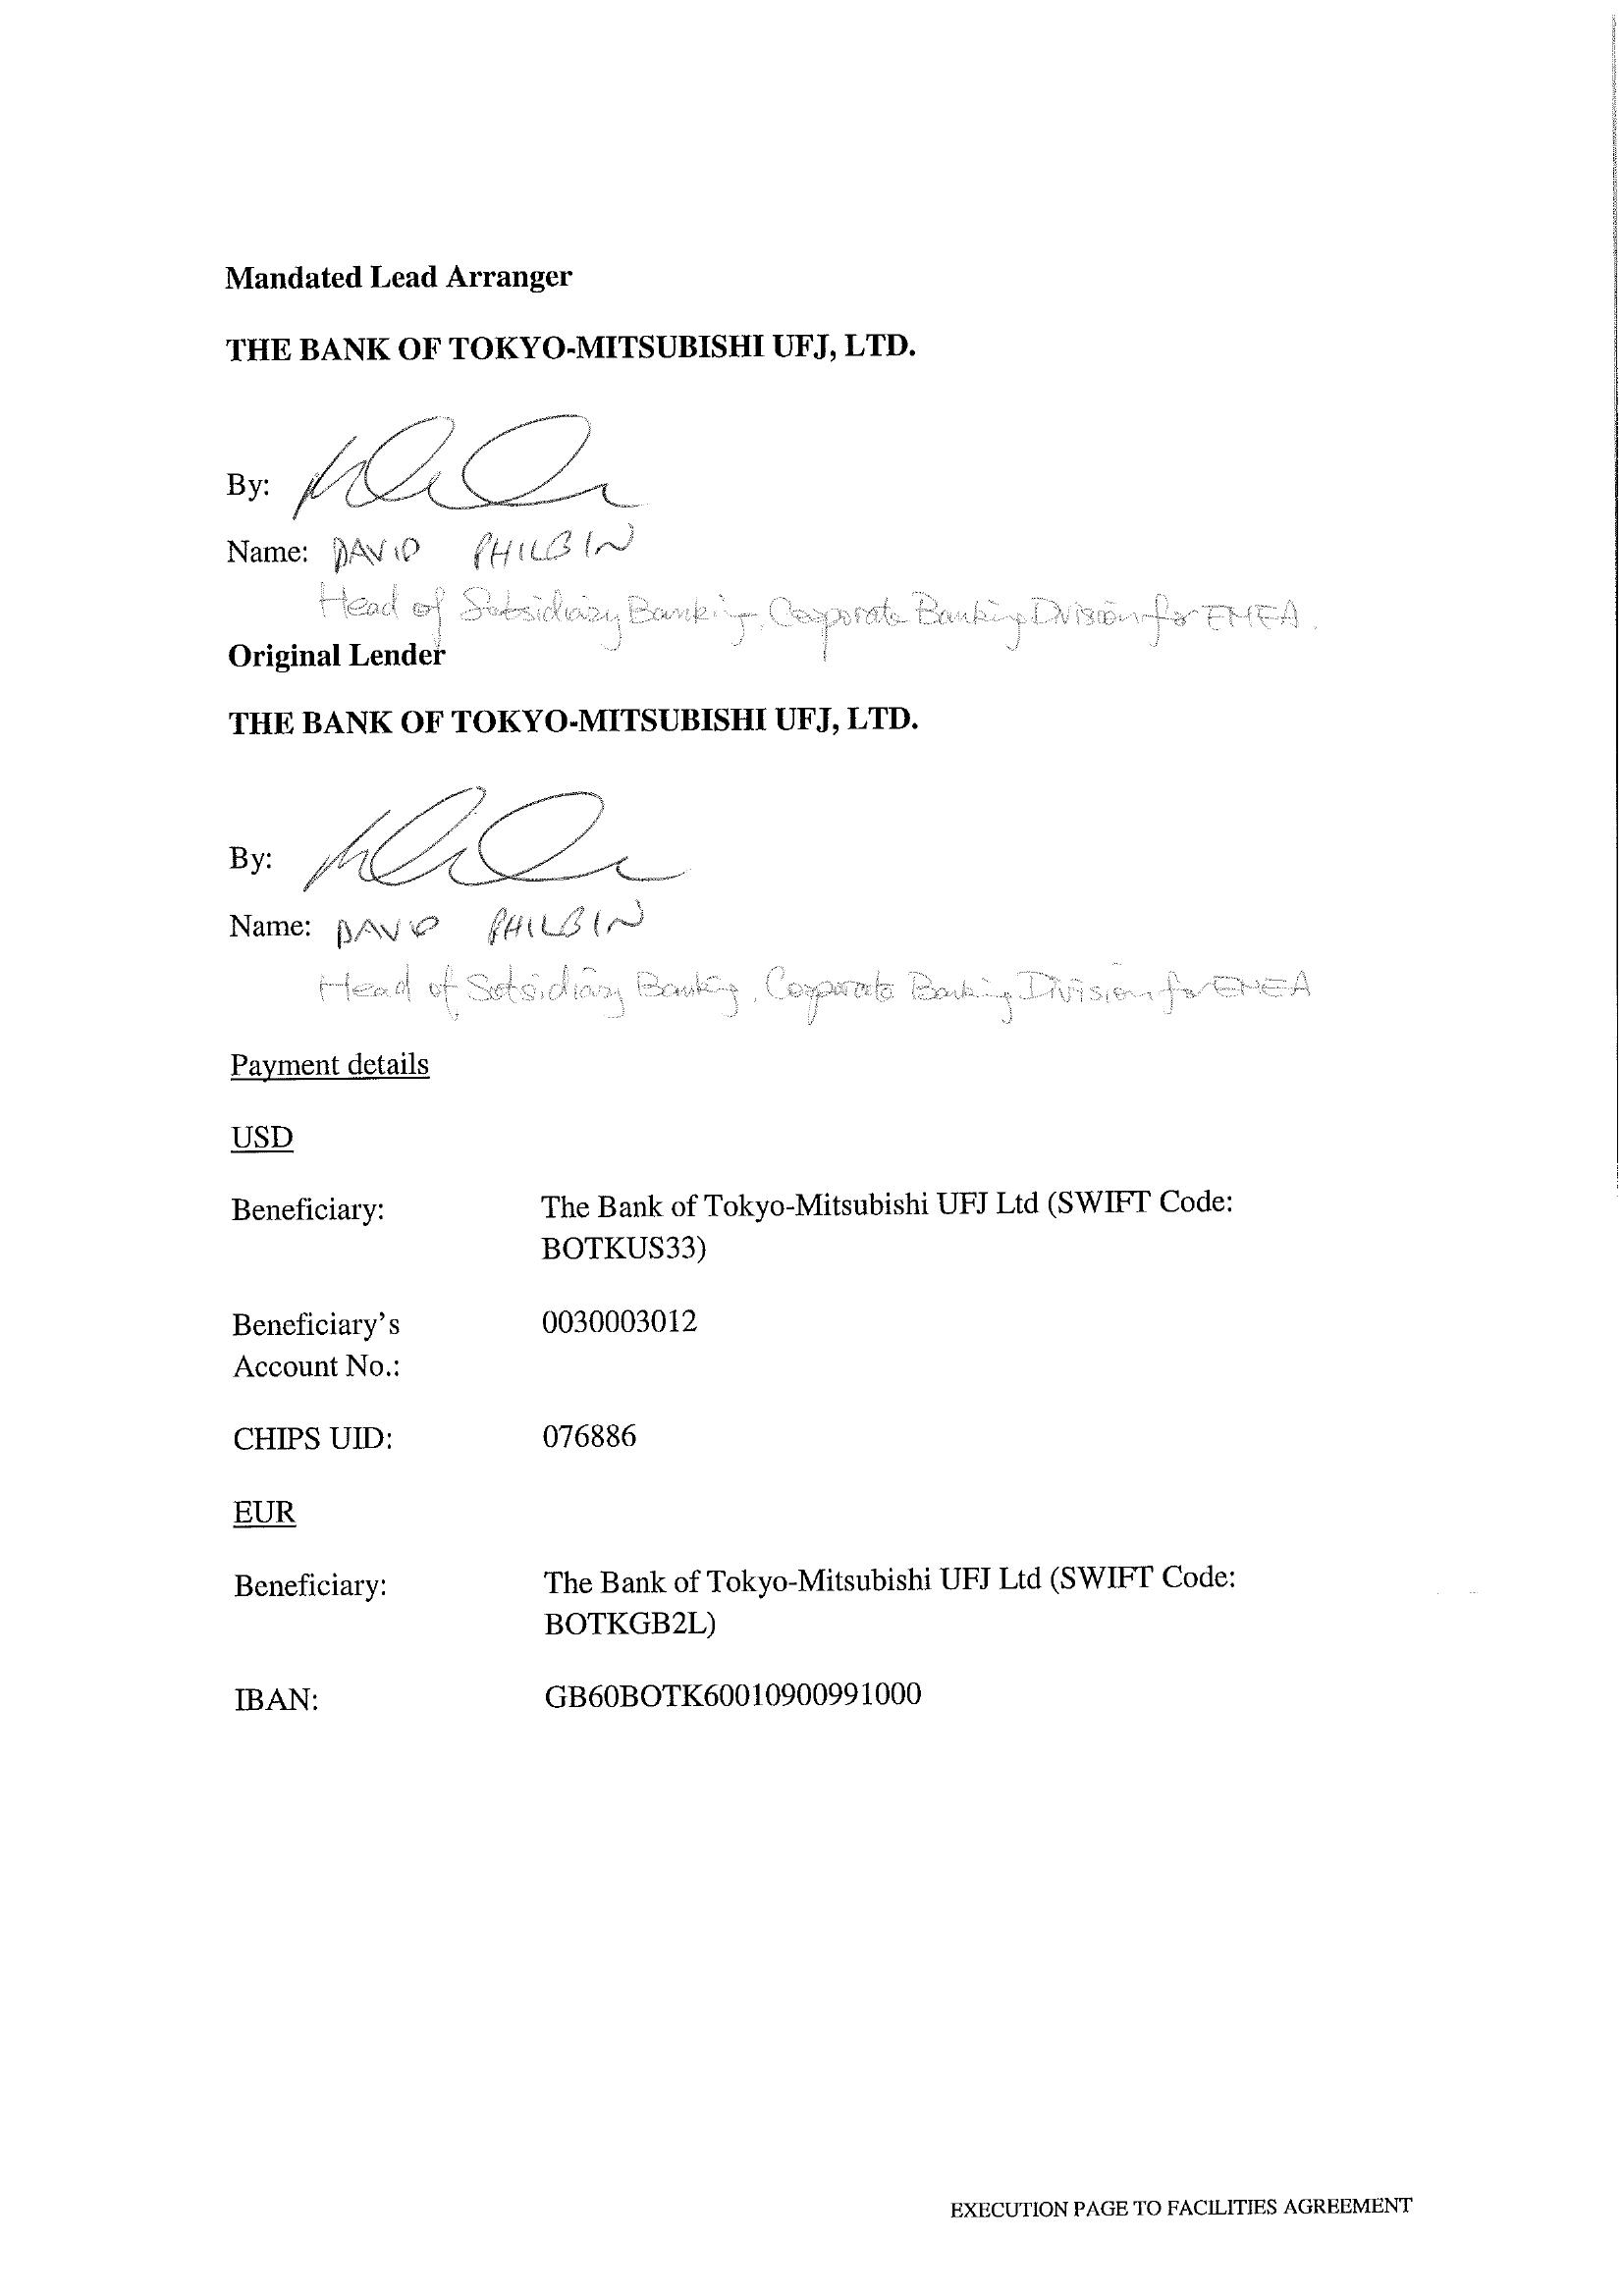typetag: (852, 2168, 1490, 2259)
